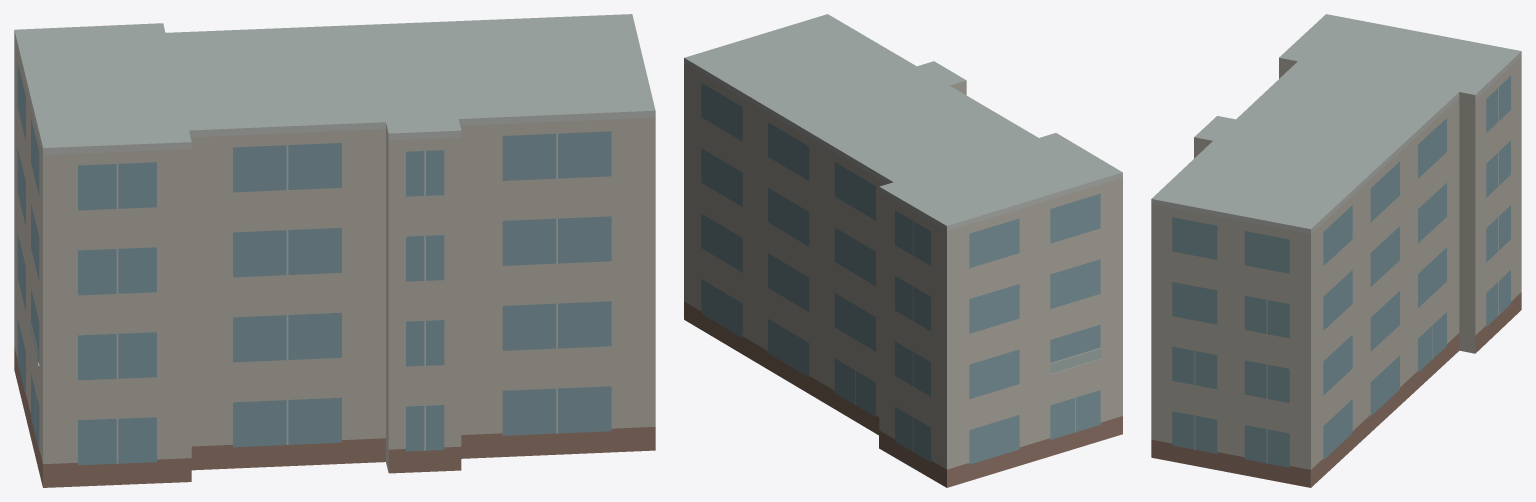
The model's file is survey-upis-32564849.glb.
3 views of the same model, side by side, from view 1: azimuth 30°, elevation 25°; view 2: azimuth 150°, elevation 25°; view 3: azimuth 270°, elevation 25° (orthographic). The views are drawn at different scales.
Parts seen in each view (by area): view 1: survey-upis-32564849.tmp; view 2: survey-upis-32564849.tmp; view 3: survey-upis-32564849.tmp.
Part boxes in pixels (bbox=[...]): survey-upis-32564849.tmp: bbox=[14, 14, 655, 487]; survey-upis-32564849.tmp: bbox=[684, 14, 1122, 487]; survey-upis-32564849.tmp: bbox=[1151, 14, 1521, 487].
Bounding box in the file's own units: 21.77 × 12.2 × 15.84.
